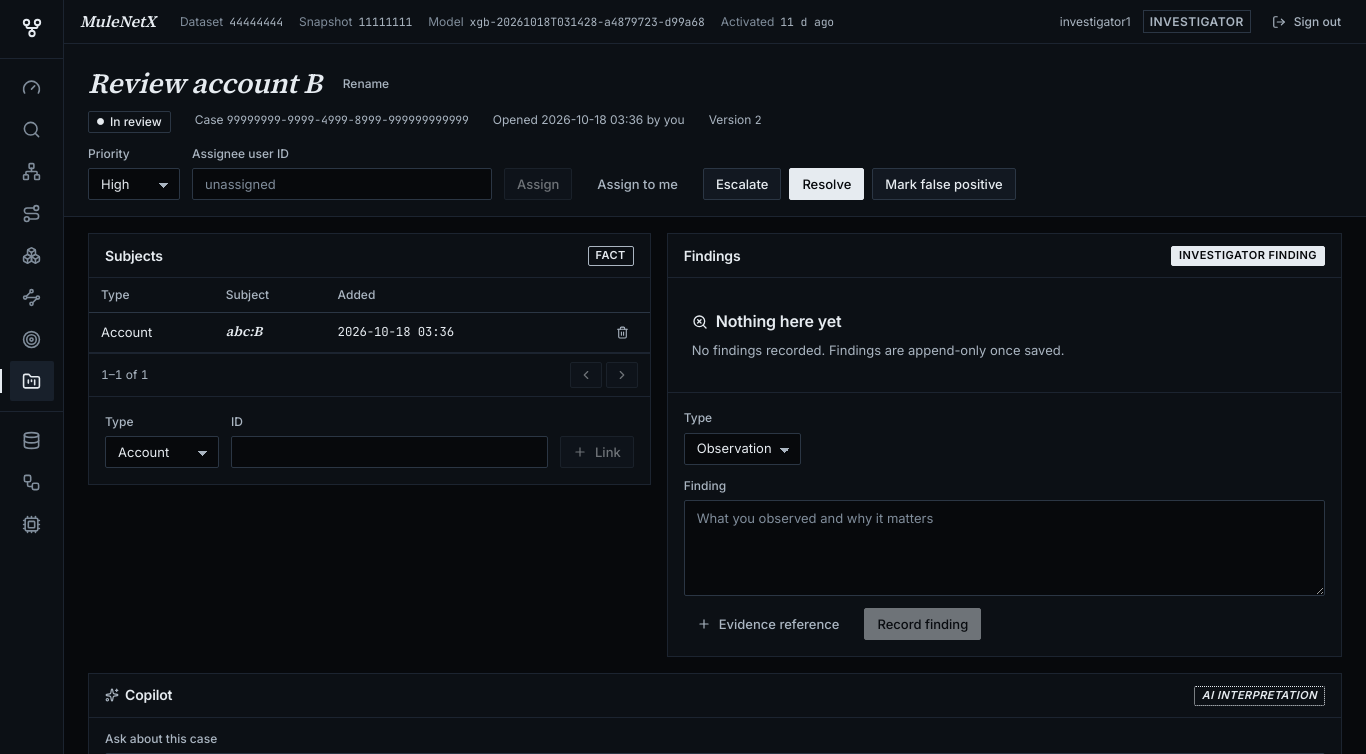
Scenario: cases (T28) › labels findings and reports a missing evidence reference by position
Check: the text "INVESTIGATOR FINDING" is shown, box [1171, 246, 1325, 266]
In the text box labelled "Finding": (1004, 548) [684, 500, 1325, 596], type "Pass-through within the hour."
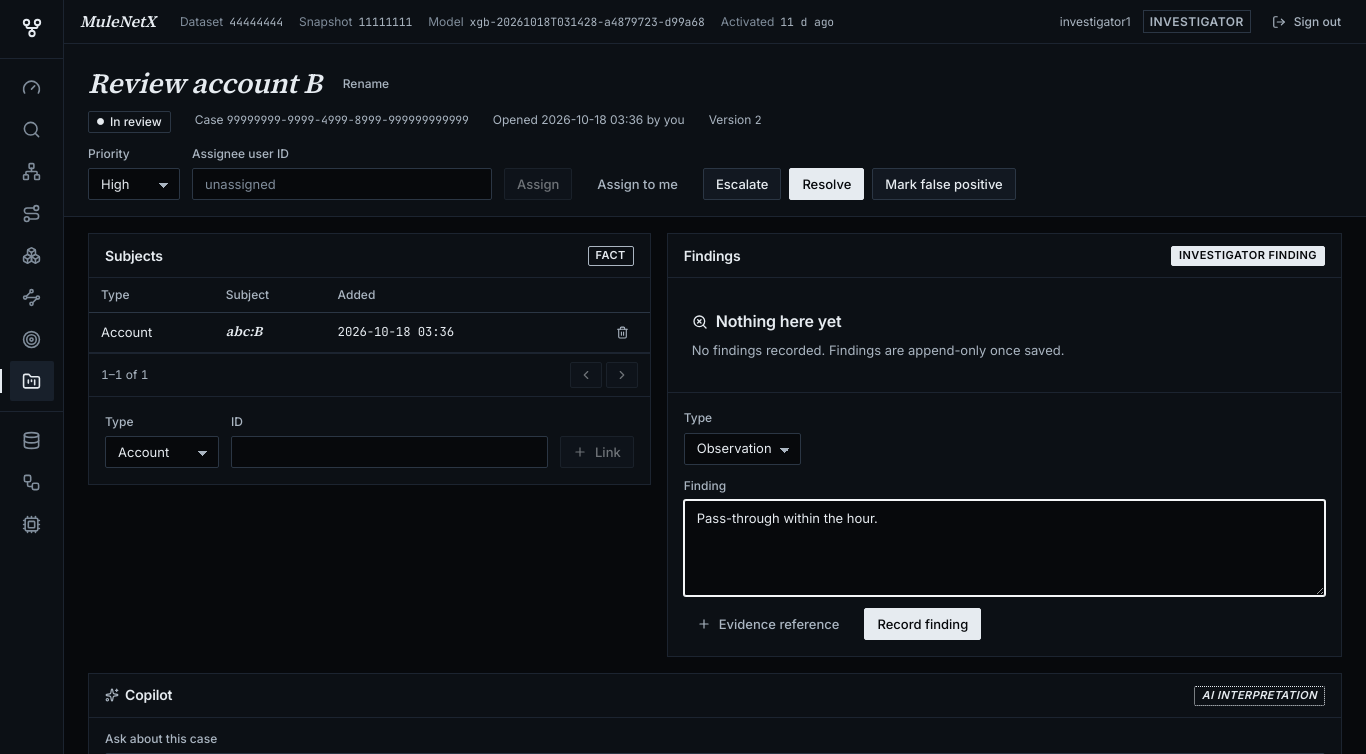
Click the button "Evidence reference": (768, 624) [684, 608, 852, 640]
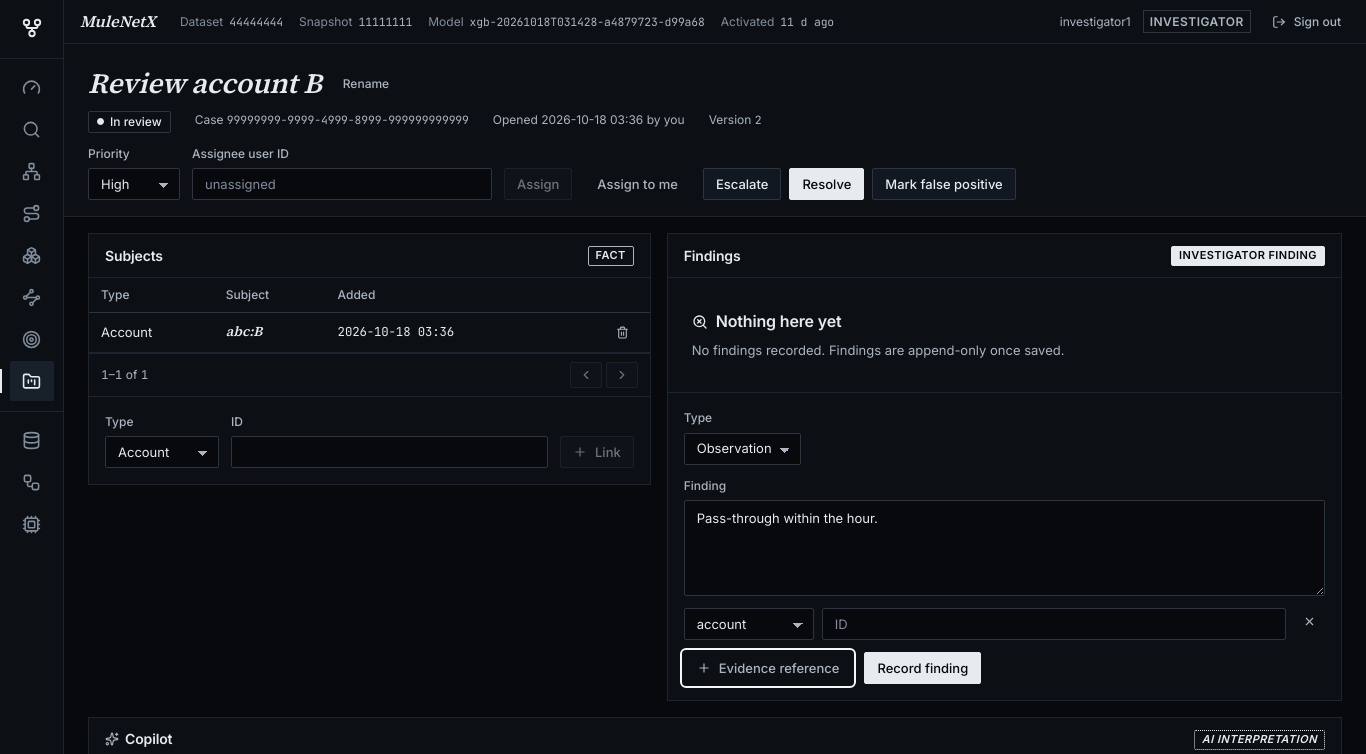
In the field named "Evidence 1 ID": (1054, 624) [822, 608, 1286, 640], type "abc:NOPE"
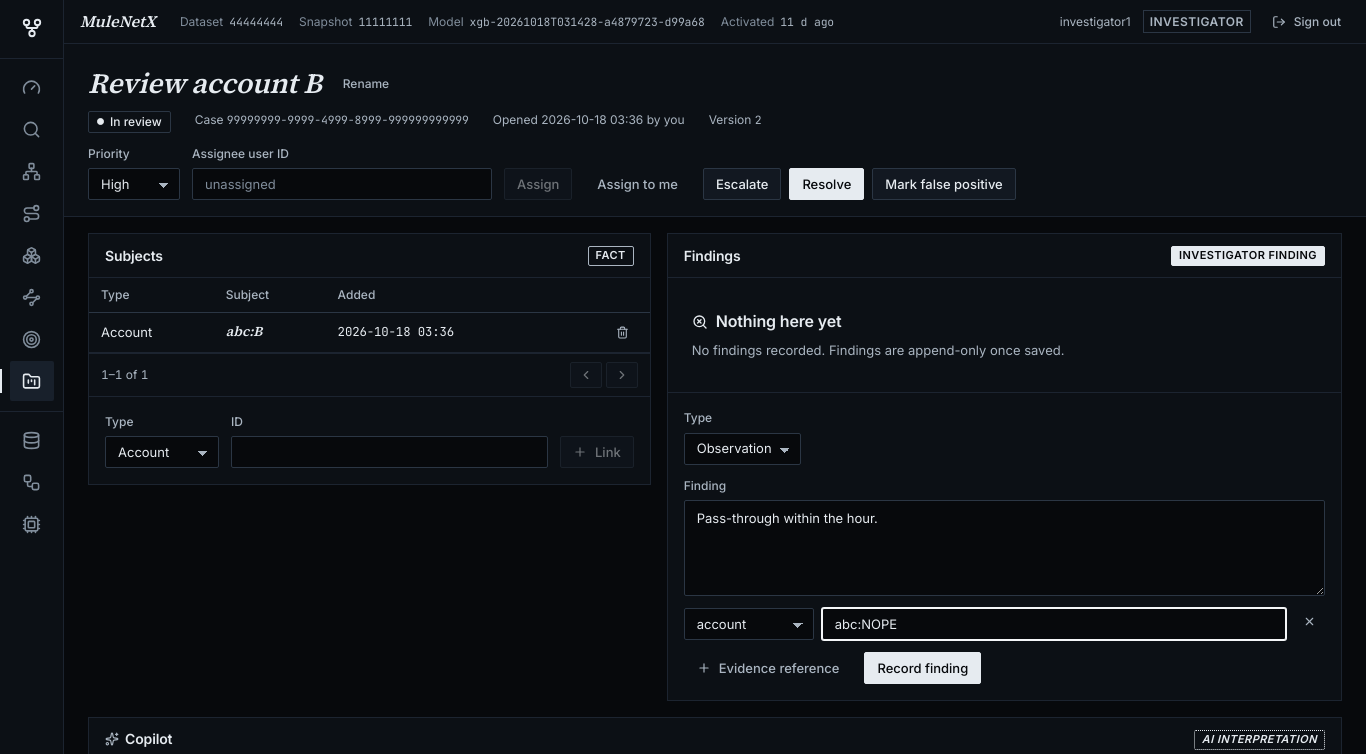
Click the button "Record finding": (923, 668) [864, 652, 981, 684]
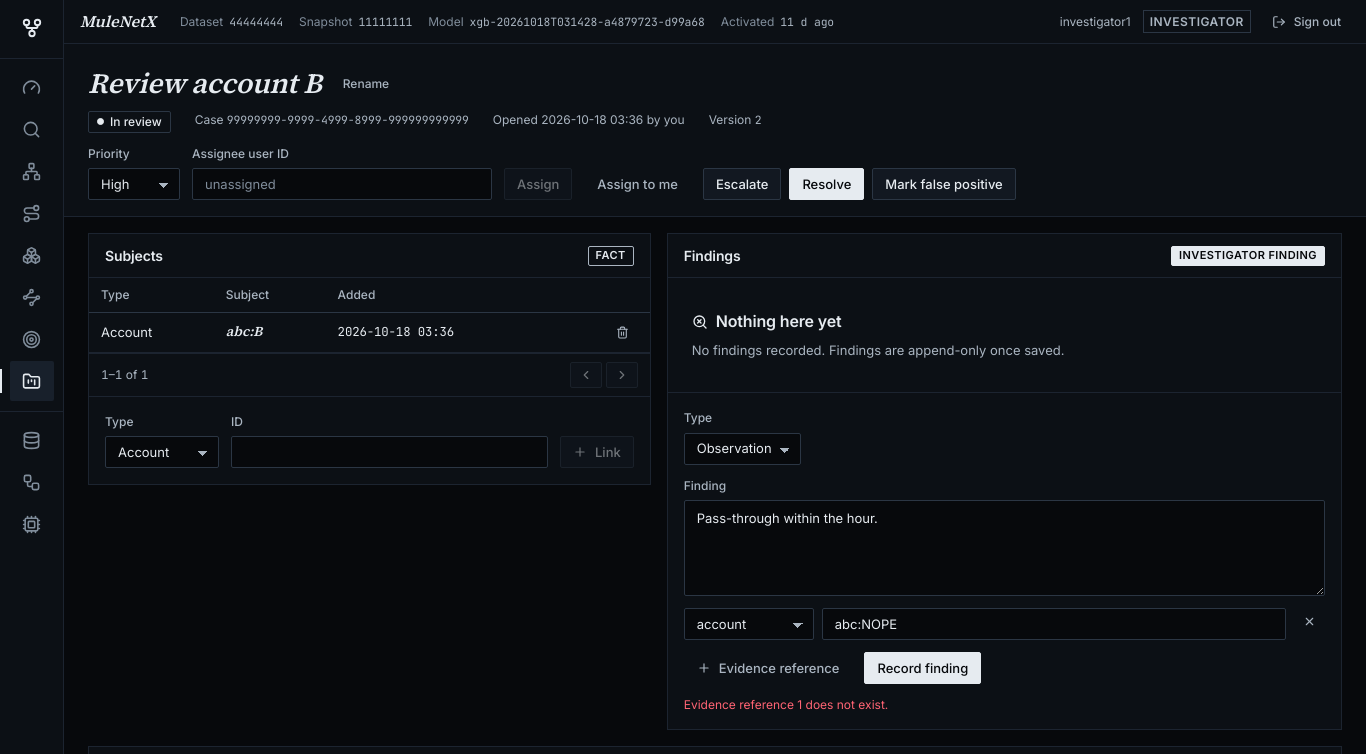
Check: the message "Evidence reference 1 does not exist." is shown, box [684, 697, 888, 712]
